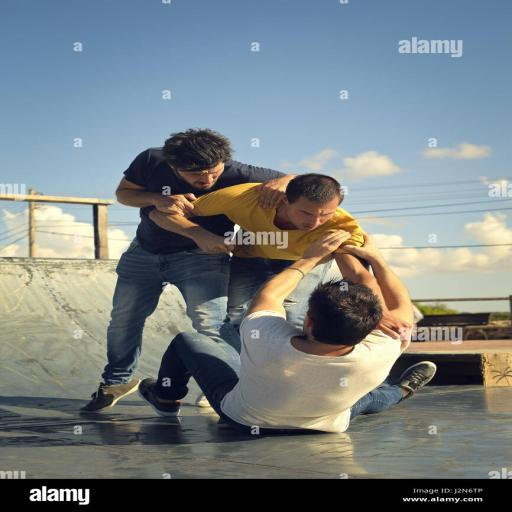fight: (144, 170, 506, 439)
